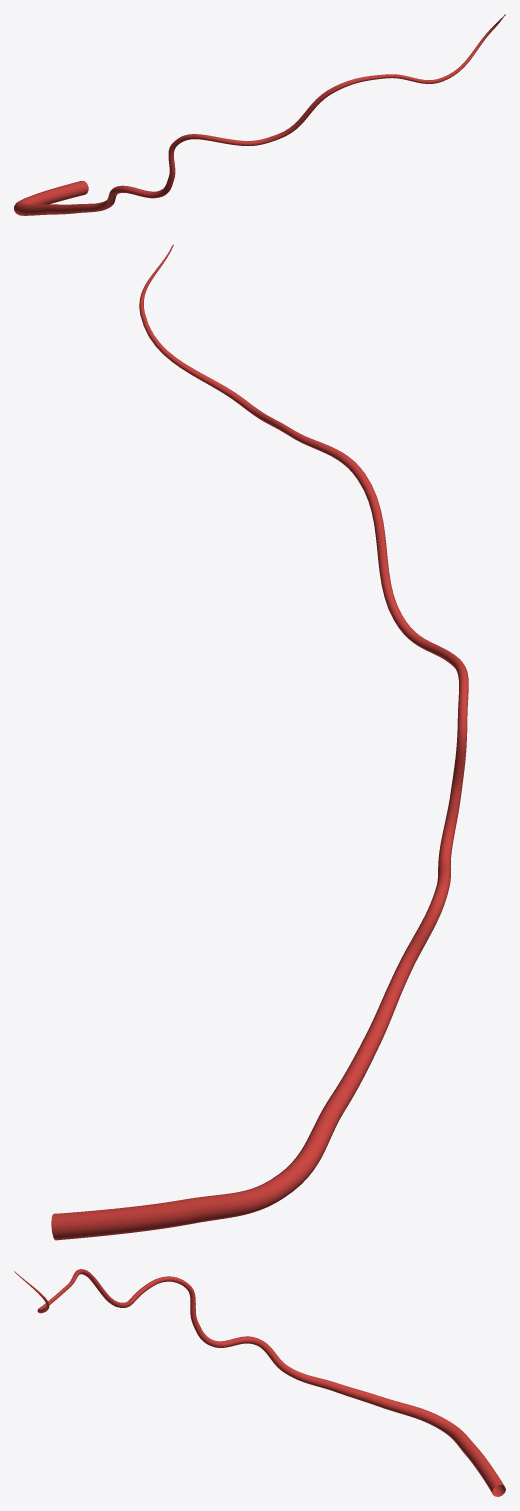
3 views of the same model, one above another, from view 1: azimuth 30°, elevation 25°; view 2: azimuth 150°, elevation 25°; view 3: azimuth 270°, elevation 25° (orthographic). The views are drawn at different scales.
Parts seen in each view (by area): view 1: 右侧中央沟动脉; view 2: 右侧中央沟动脉; view 3: 右侧中央沟动脉.
Boxes of the visible parts, left/top/right/bottom form: 右侧中央沟动脉: left=14, top=14, right=505, bottom=215; 右侧中央沟动脉: left=51, top=244, right=468, bottom=1240; 右侧中央沟动脉: left=14, top=1269, right=505, bottom=1496.
Bounding box in the file's own units: 0.0733 × 0.0771 × 0.1096.
